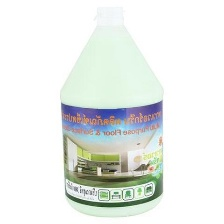cleaning_solution: (58, 4, 166, 220)
